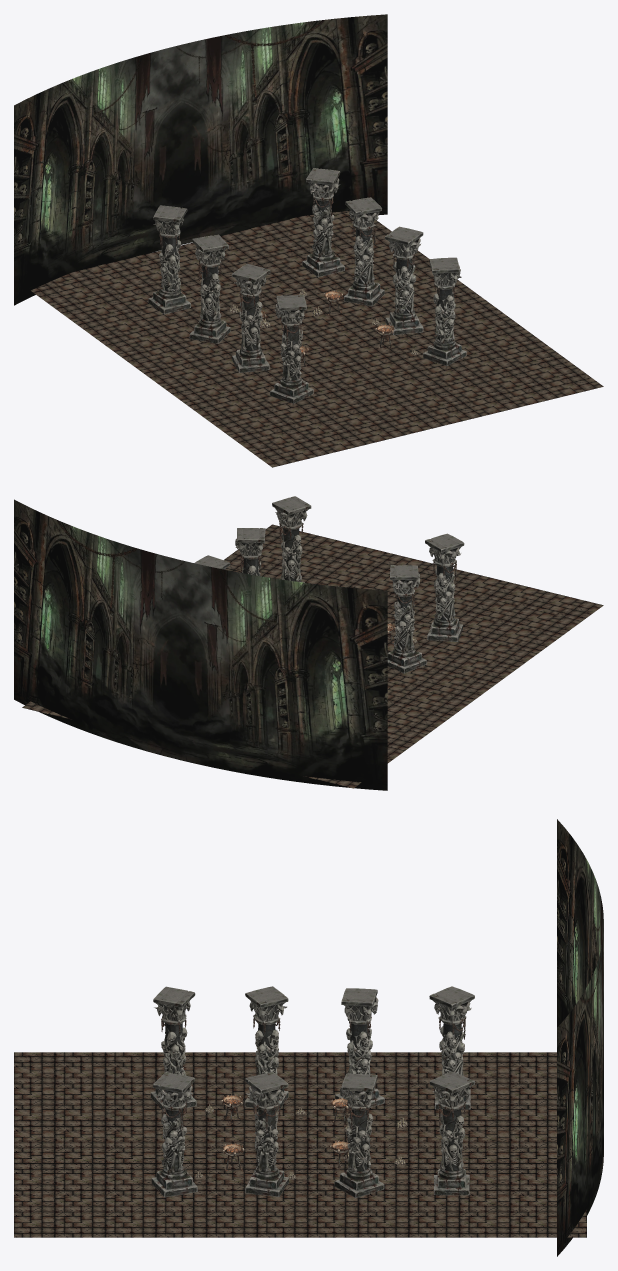
The model's file is throne_room_env.glb.
3 renders of one model, top to bottom at view 1: azimuth 30°, elevation 25°; view 2: azimuth 150°, elevation 25°; view 3: azimuth 270°, elevation 25°, orthographic. The views are drawn at different scales.
Parts seen in each view (by area): view 1: Backdrop, Floor, Pillar_R1, Pillar_L2, Pillar_L0, Pillar_R2, Pillar_R3, Pillar_L1, Pillar_L3, Pillar_R0; view 2: Backdrop, Floor, Pillar_R3, Pillar_R2, Pillar_L3, Pillar_L2; view 3: Floor, Backdrop, Pillar_L2, Pillar_L1, Pillar_L3, Pillar_L0, Pillar_R1, Pillar_R0, Pillar_R2, Pillar_R3.
Boxes of the visible parts, left/top/right/bottom form: Backdrop: left=14, top=14, right=387, bottom=305; Floor: left=31, top=211, right=603, bottom=467; Pillar_R1: left=189, top=234, right=230, bottom=343; Pillar_L2: left=385, top=226, right=423, bottom=335; Pillar_L0: left=302, top=168, right=344, bottom=277; Pillar_R2: left=232, top=263, right=270, bottom=372; Pillar_R3: left=269, top=295, right=313, bottom=403; Pillar_L1: left=344, top=197, right=384, bottom=306; Pillar_L3: left=423, top=257, right=466, bottom=365; Pillar_R0: left=148, top=205, right=190, bottom=314; Backdrop: left=14, top=499, right=387, bottom=790; Floor: left=22, top=524, right=603, bottom=788; Pillar_R3: left=425, top=533, right=464, bottom=641; Pillar_R2: left=387, top=565, right=426, bottom=673; Pillar_L3: left=272, top=496, right=311, bottom=582; Pillar_L2: left=235, top=528, right=265, bottom=575; Floor: left=14, top=1052, right=586, bottom=1237; Backdrop: left=557, top=819, right=603, bottom=1256; Pillar_L2: left=245, top=1072, right=288, bottom=1196; Pillar_L1: left=334, top=1073, right=384, bottom=1197; Pillar_L3: left=151, top=1072, right=197, bottom=1197; Pillar_L0: left=429, top=1071, right=474, bottom=1195; Pillar_R1: left=335, top=988, right=384, bottom=1107; Pillar_R0: left=429, top=986, right=474, bottom=1109; Pillar_R2: left=244, top=986, right=288, bottom=1110; Pillar_R3: left=150, top=986, right=196, bottom=1111.
Bounding box in the file's own units: 29.3 × 15 × 35.
5 materials, 5 textured.
